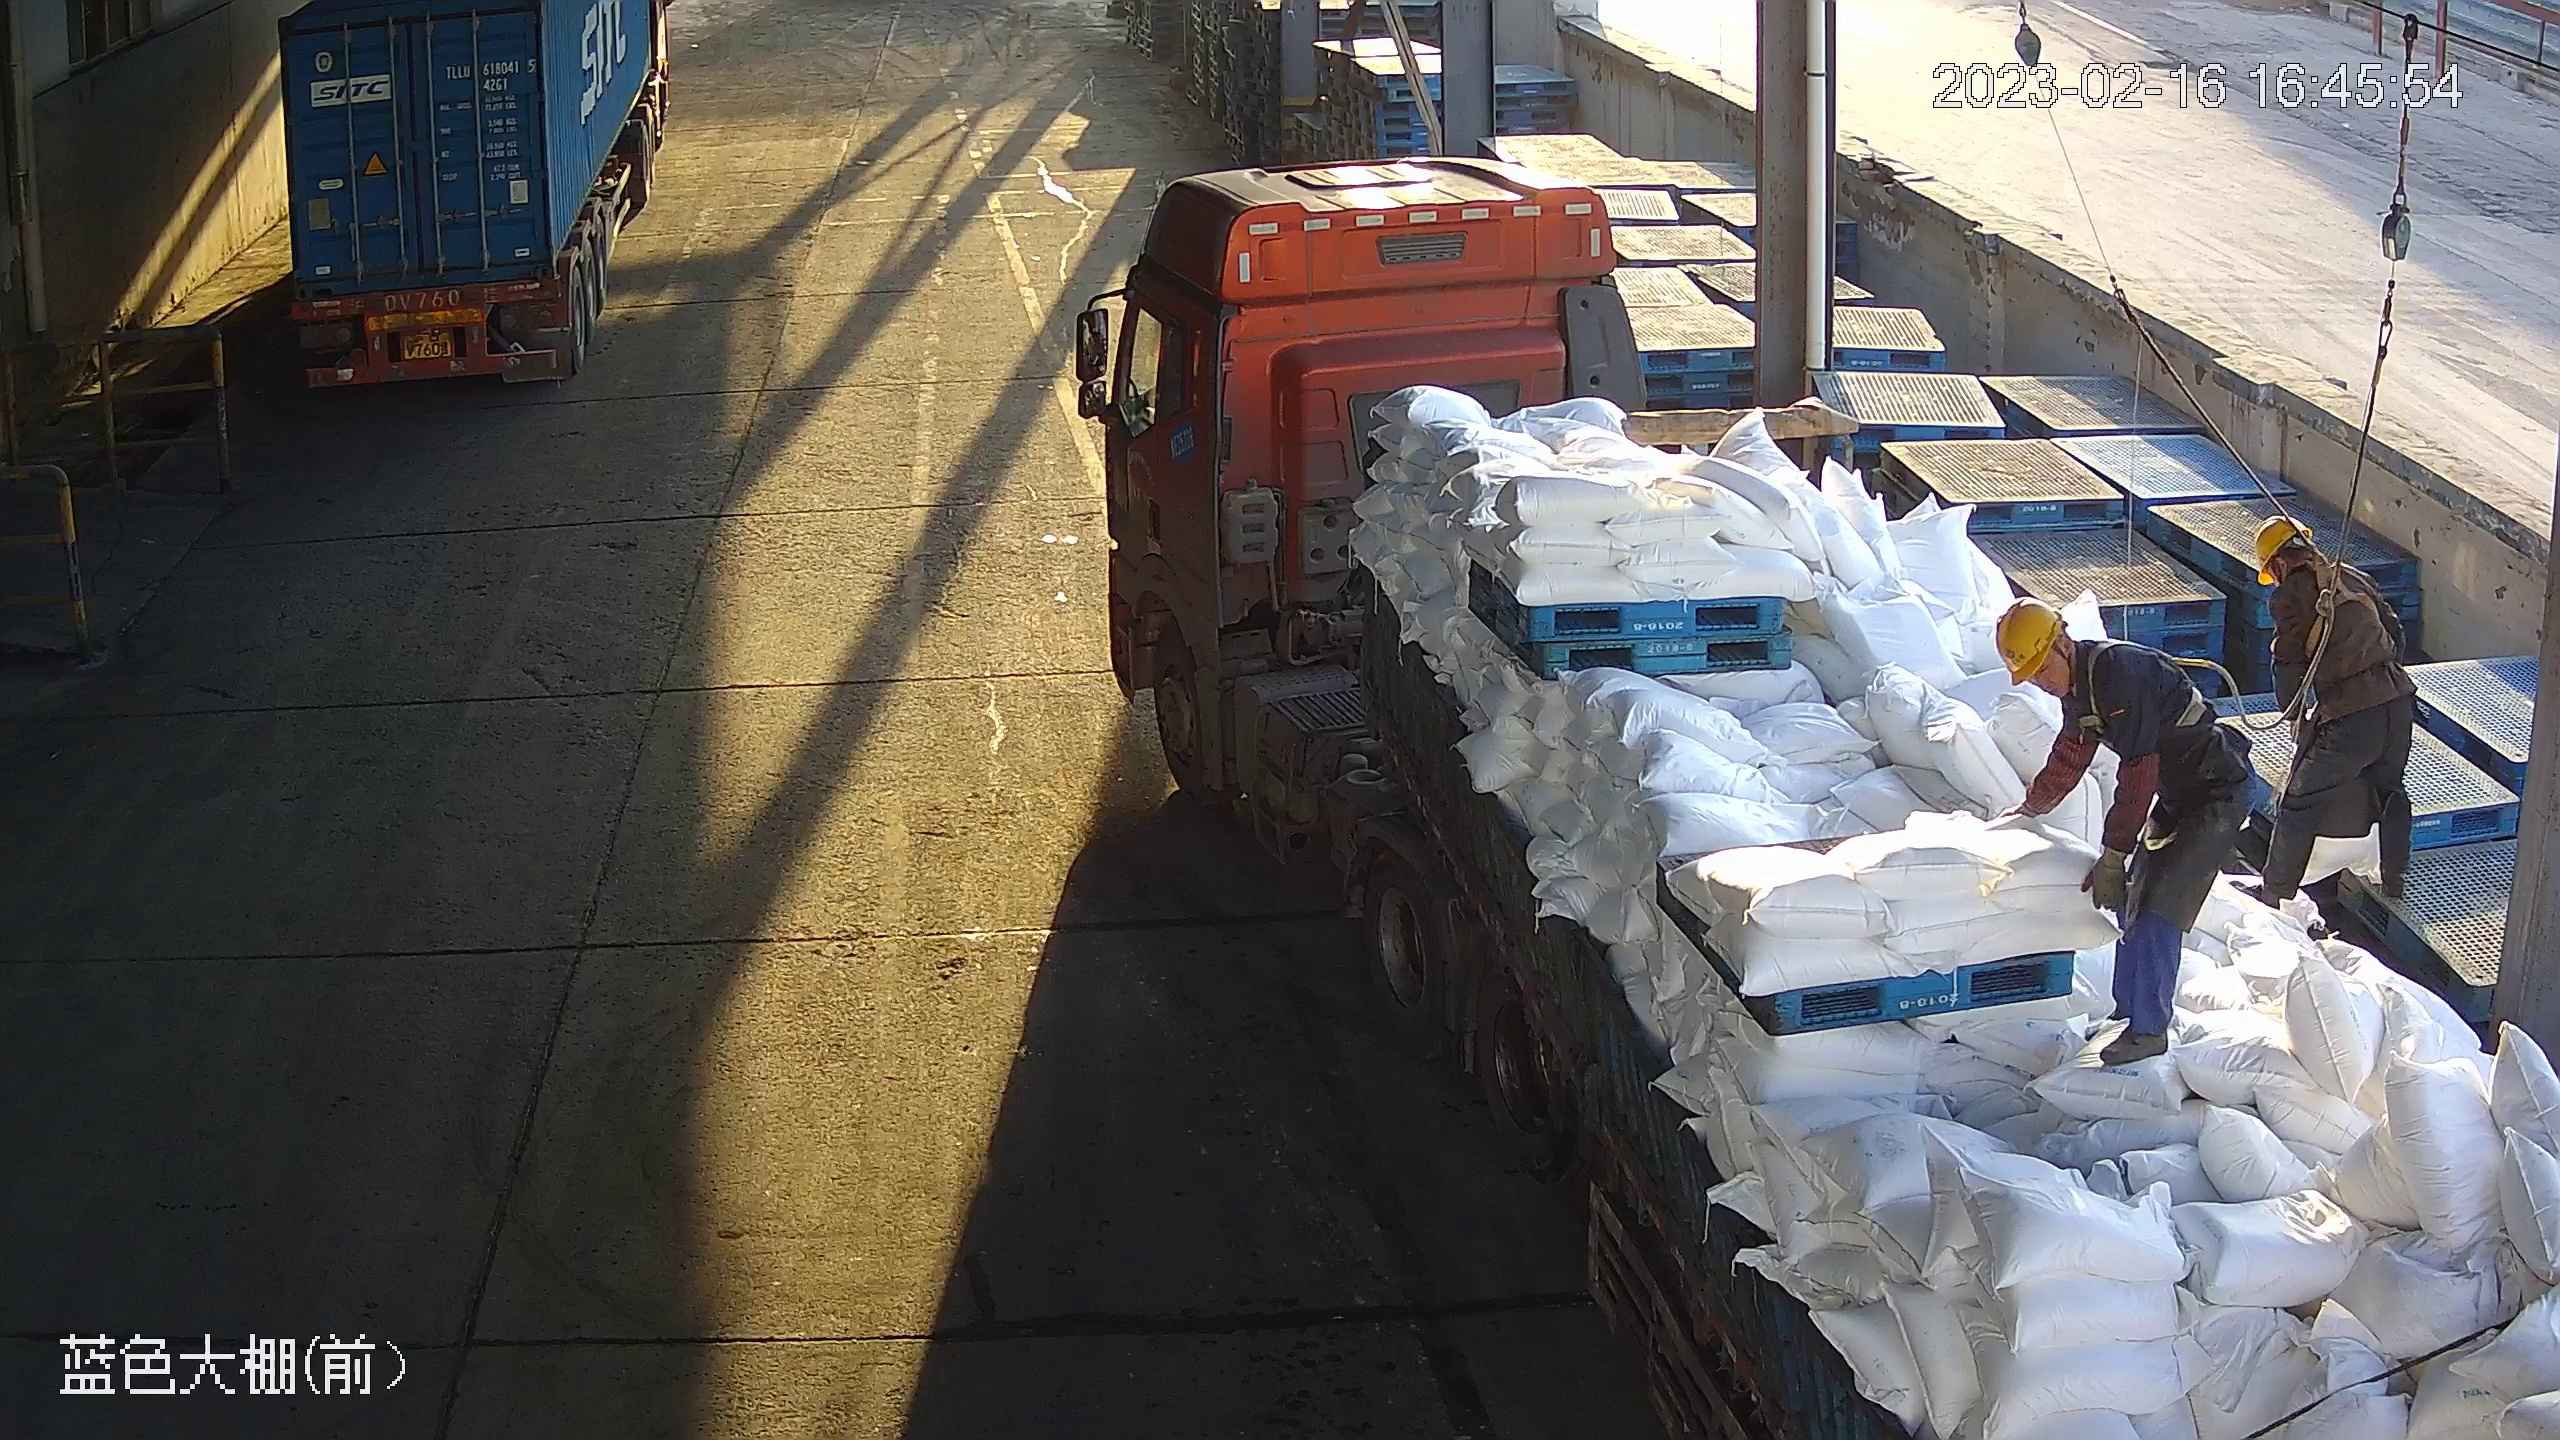belt: (2071, 636, 2223, 738), (2282, 555, 2388, 653)
head: (1996, 595, 2167, 748), (2251, 513, 2387, 641)
helmet: (1995, 596, 2065, 685), (2252, 515, 2311, 586)
people: (1994, 593, 2265, 1067), (2232, 513, 2422, 916)
truck: (1061, 151, 2560, 1440), (265, 4, 675, 413)
